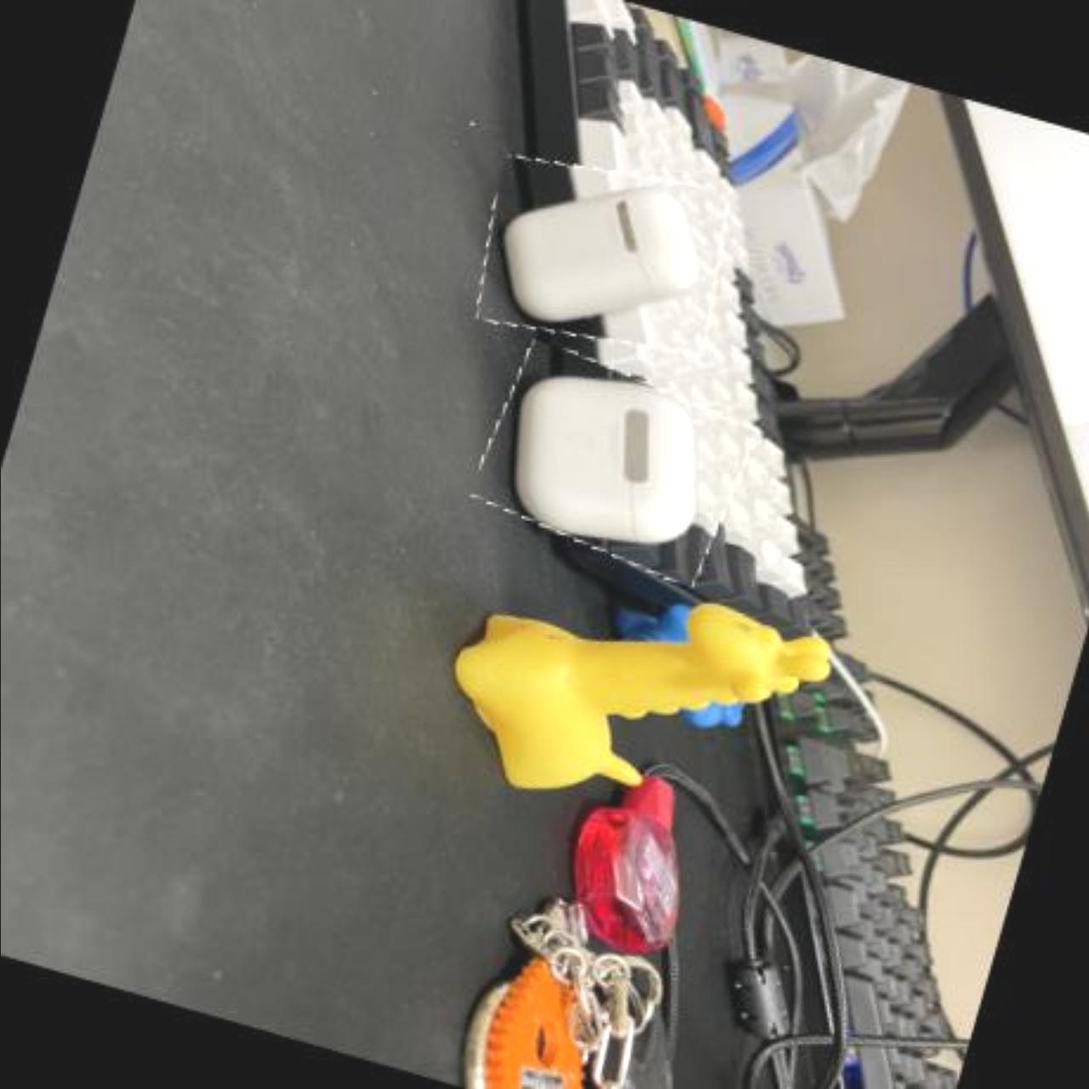AirPods: (468, 339, 759, 582), (464, 135, 741, 372)
